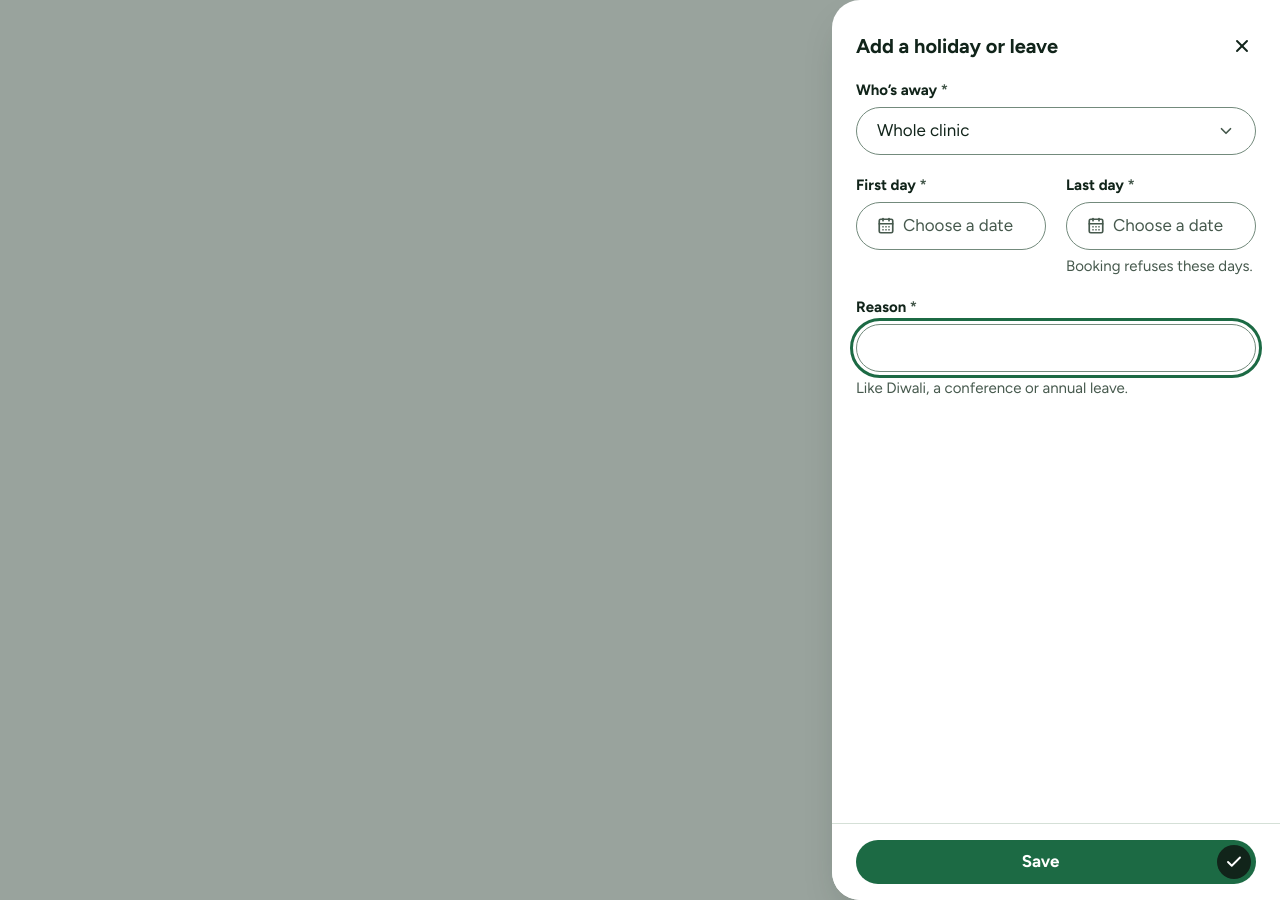
ClosureSheet (plan §9, D85) › offers the whole clinic alone while there are no doctors to name
Click the dropdown named "Who’s away": [923, 130] box [856,107,1256,155]
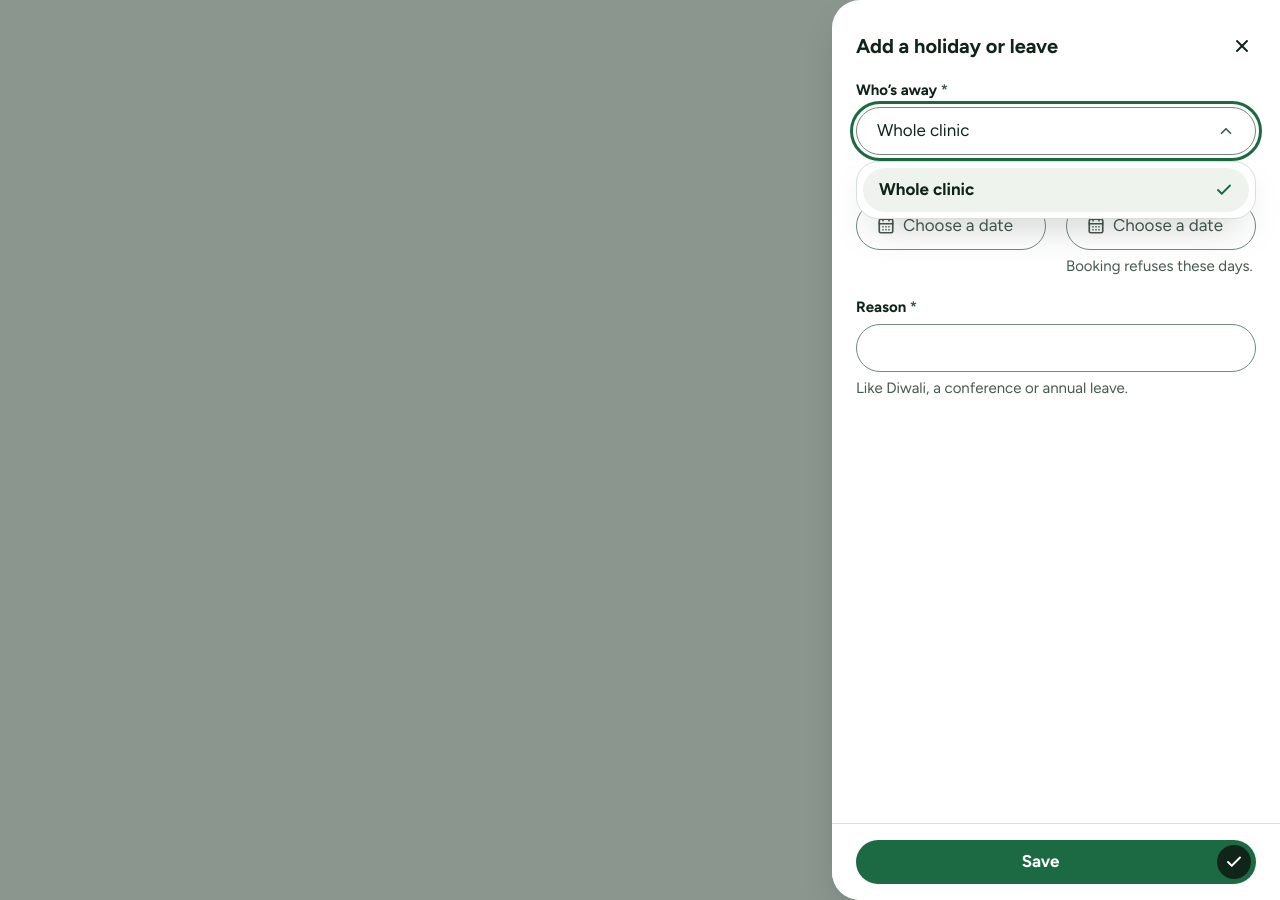
Check: the options read "Whole clinic", in this order, box [863,168,1249,212]
